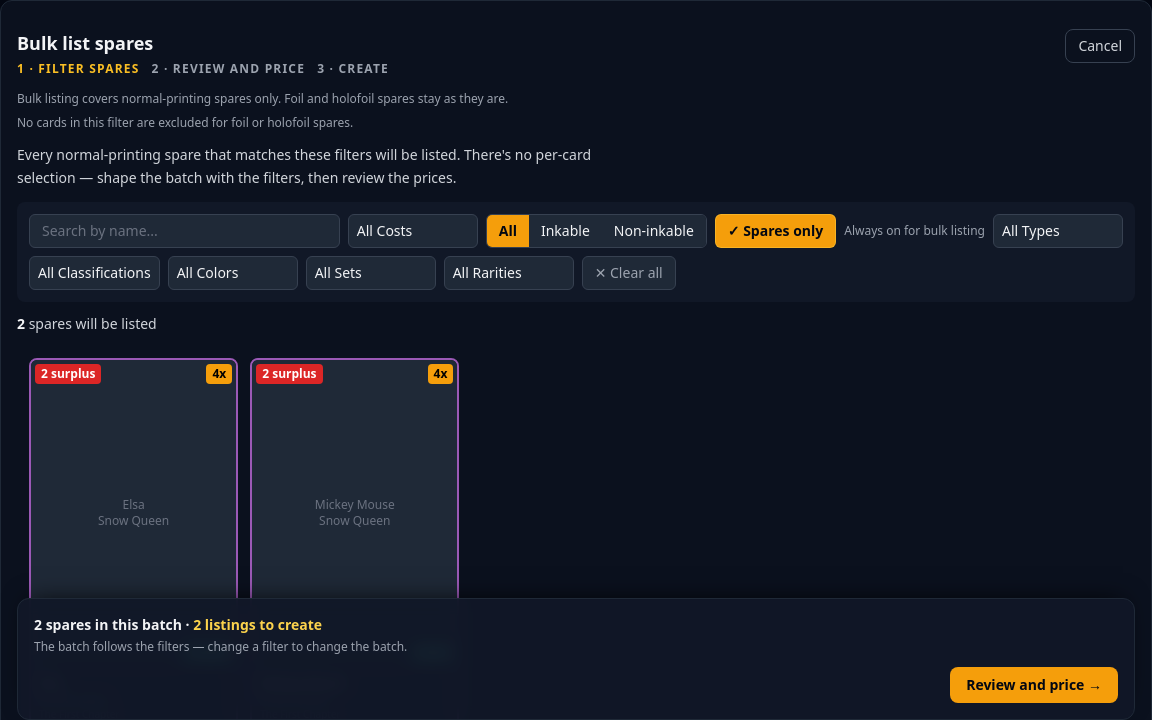
Test case: BulkListingSection — step 2 (review and price) › prices each row from its own TCG market value at 0% (USD→SGD)
The width and height of the screenshot is (1152, 720).
What coordinates should you click on to do the following:
click the button "Review and price →"
I would click on:
 (1034, 685)
Its box is [950,667,1118,703].
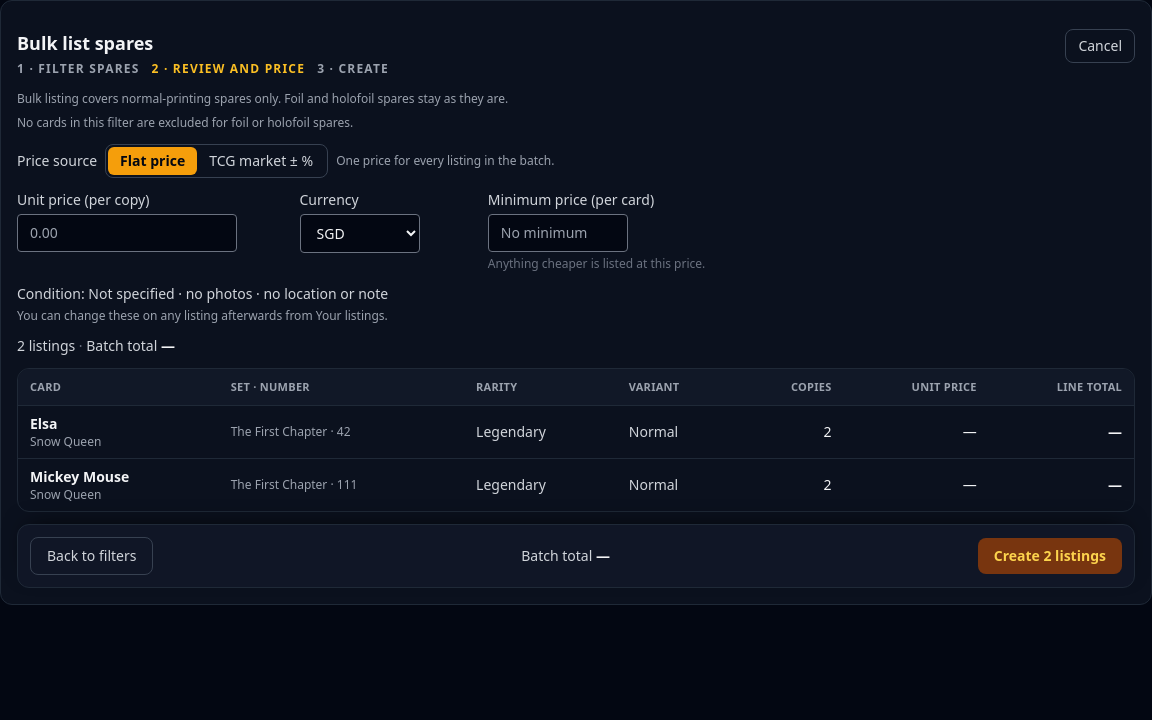
What coordinates should you click on to do the following:
click the button "TCG market ± %"
I would click on:
 (261, 161)
Its box is [197,147,325,175].
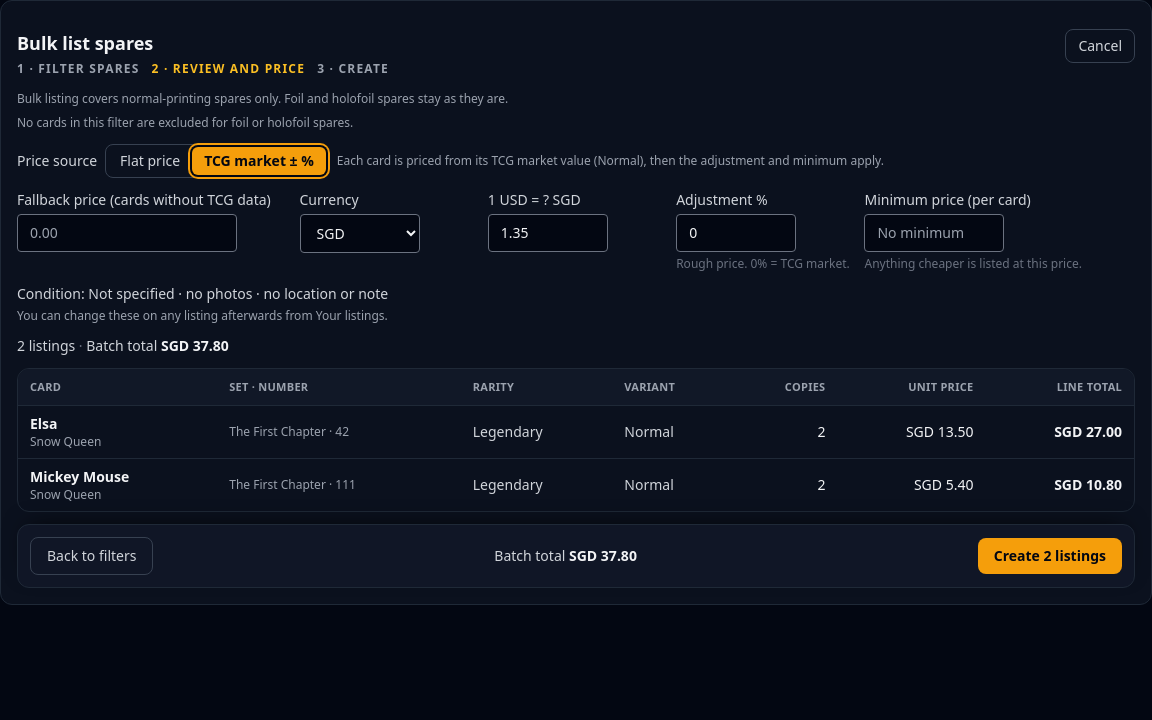
Check: the element with test id "bulk-totals" shows "SGD 37.80", box [161,336,229,355]
Check: the text "SGD 13.50" is shown, box [906,422,973,441]
Check: the text "SGD 5.40" is shown, box [914,475,973,494]
